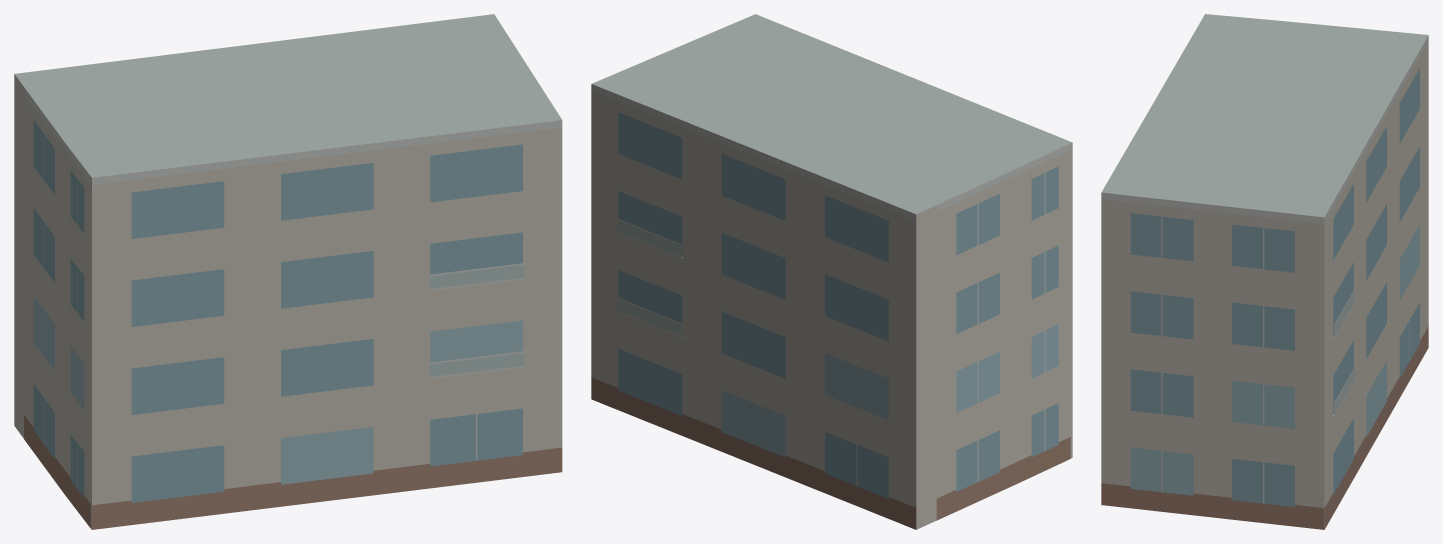
Rendered from survey-upis-32994674.glb.
3 views of the same model, side by side, from view 1: azimuth 30°, elevation 25°; view 2: azimuth 150°, elevation 25°; view 3: azimuth 270°, elevation 25° (orthographic). The views are drawn at different scales.
Visible parts, largest first — view 1: survey-upis-32994674.tmp; view 2: survey-upis-32994674.tmp; view 3: survey-upis-32994674.tmp.
Boxes of the visible parts, <box> form: survey-upis-32994674.tmp: <box>14,14,562,529</box>; survey-upis-32994674.tmp: <box>591,14,1072,529</box>; survey-upis-32994674.tmp: <box>1101,14,1428,529</box>.
Bounding box in the file's own units: 16.34 × 11.7 × 11.12.
